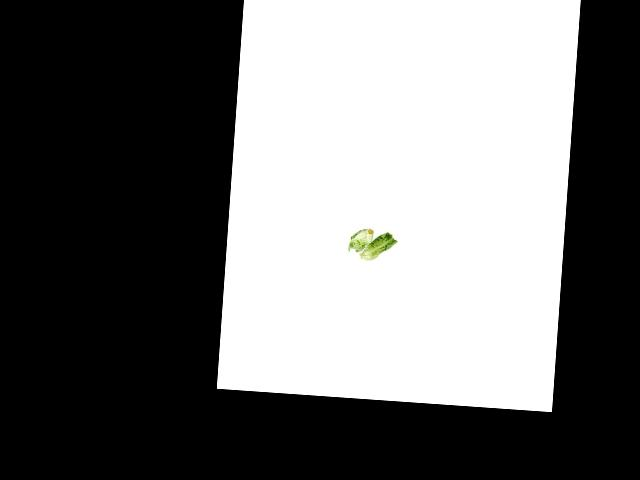lettuce: (346, 223, 375, 254)
